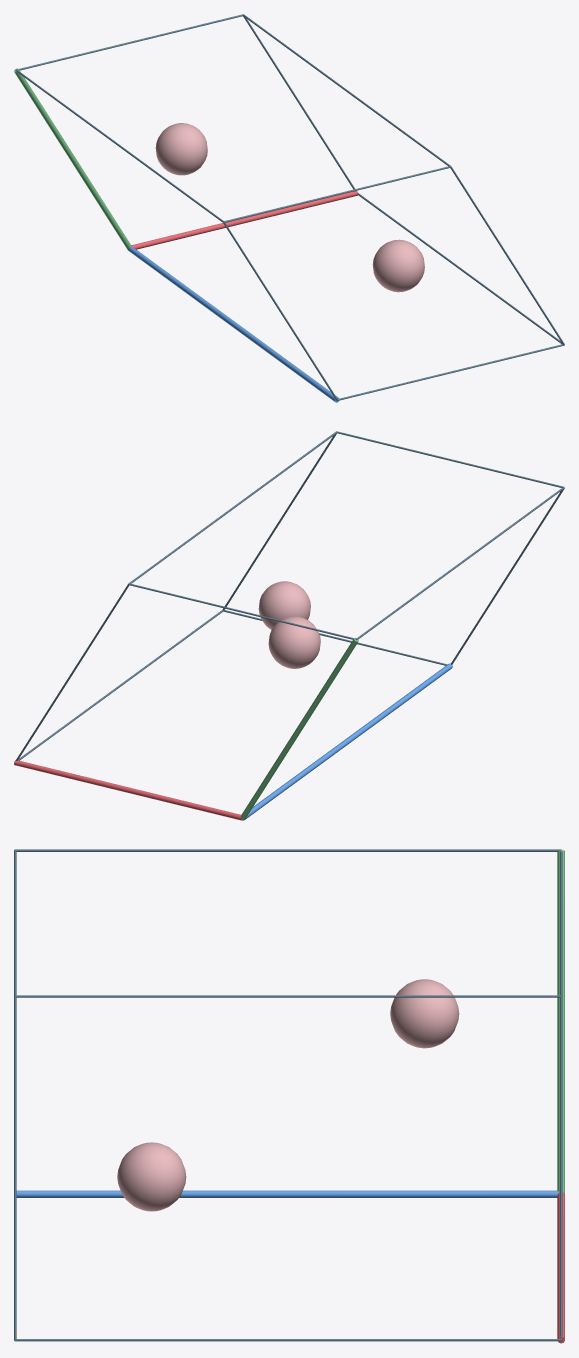
The model's file is nguyen-to-hf.glb.
3 renders of one model, top to bottom at view 1: azimuth 30°, elevation 25°; view 2: azimuth 150°, elevation 25°; view 3: azimuth 270°, elevation 25°, orthographic. The views are drawn at different scales.
Visible parts, largest first — view 1: Ô mạng và các trục a, b, c, Hf · Hf · 1 (×2); view 2: Ô mạng và các trục a, b, c, Hf · Hf · 1 (×2); view 3: Ô mạng và các trục a, b, c, Hf · Hf · 1 (×2).
Boxes of the visible parts, box(x1,y1,x2,y2) form: Ô mạng và các trục a, b, c: box(14, 14, 564, 402); Hf · Hf · 1 (×2): box(155, 123, 424, 292); Ô mạng và các trục a, b, c: box(14, 431, 564, 820); Hf · Hf · 1 (×2): box(258, 581, 320, 668); Ô mạng và các trục a, b, c: box(14, 849, 564, 1343); Hf · Hf · 1 (×2): box(117, 979, 459, 1211).
Bounding box in the file's own units: 4.84 × 2.82 × 5.1.
